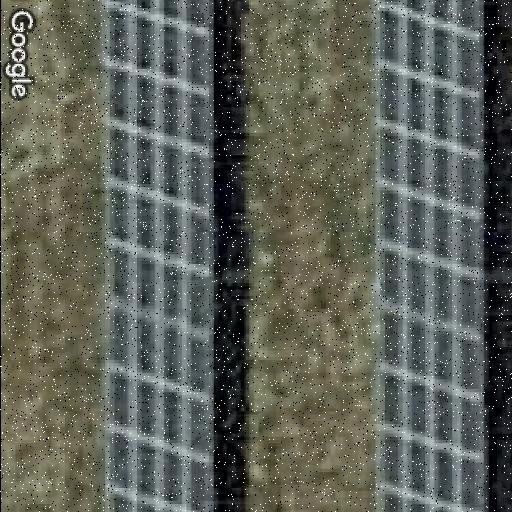solar-panel: (372, 0, 486, 512), (104, 0, 213, 512)
